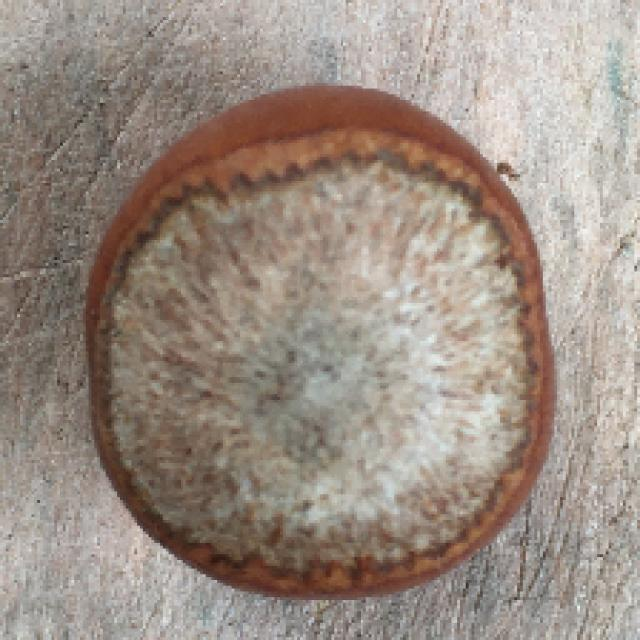qualityHazelnut: (72, 78, 559, 608)
